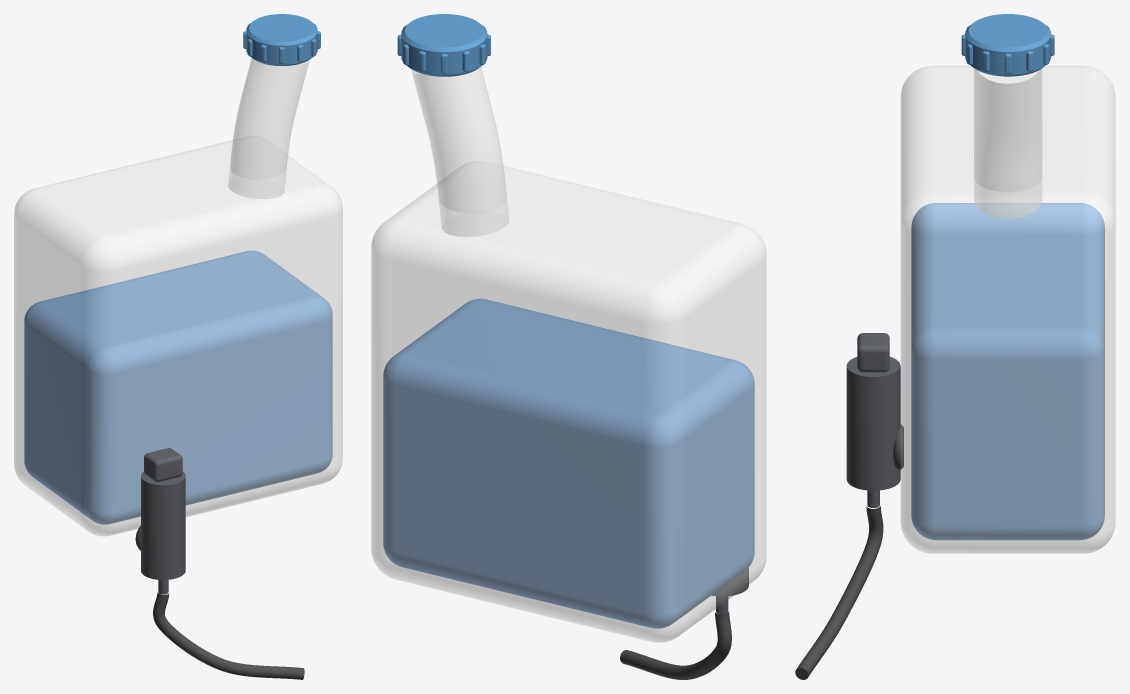
The model's file is washer_fluid_reservoir.glb.
3 views of the same model, side by side, from view 1: azimuth 30°, elevation 25°; view 2: azimuth 150°, elevation 25°; view 3: azimuth 270°, elevation 25° (orthographic). The views are drawn at different scales.
Parts seen in each view (by area): view 1: tank, washer_fluid, pump, cap, hose; view 2: tank, washer_fluid, cap, hose, pump; view 3: tank, washer_fluid, pump, cap, hose.
Boxes of the visible parts, left/top/right/bottom form: tank: left=14, top=58, right=342, bottom=535; washer_fluid: left=24, top=250, right=332, bottom=524; pump: left=141, top=448, right=185, bottom=594; cap: left=243, top=14, right=320, bottom=65; hose: left=153, top=592, right=304, bottom=679; tank: left=371, top=67, right=766, bottom=642; washer_fluid: left=383, top=298, right=754, bottom=628; cap: left=397, top=14, right=490, bottom=76; hose: left=620, top=611, right=731, bottom=679; pump: left=711, top=567, right=748, bottom=613; tank: left=901, top=66, right=1115, bottom=553; washer_fluid: left=911, top=203, right=1104, bottom=540; pump: left=846, top=333, right=900, bottom=507; cap: left=961, top=14, right=1054, bottom=76; hose: left=795, top=506, right=883, bottom=679.
Size of the model in its own units: 206 by 423 by 179.
